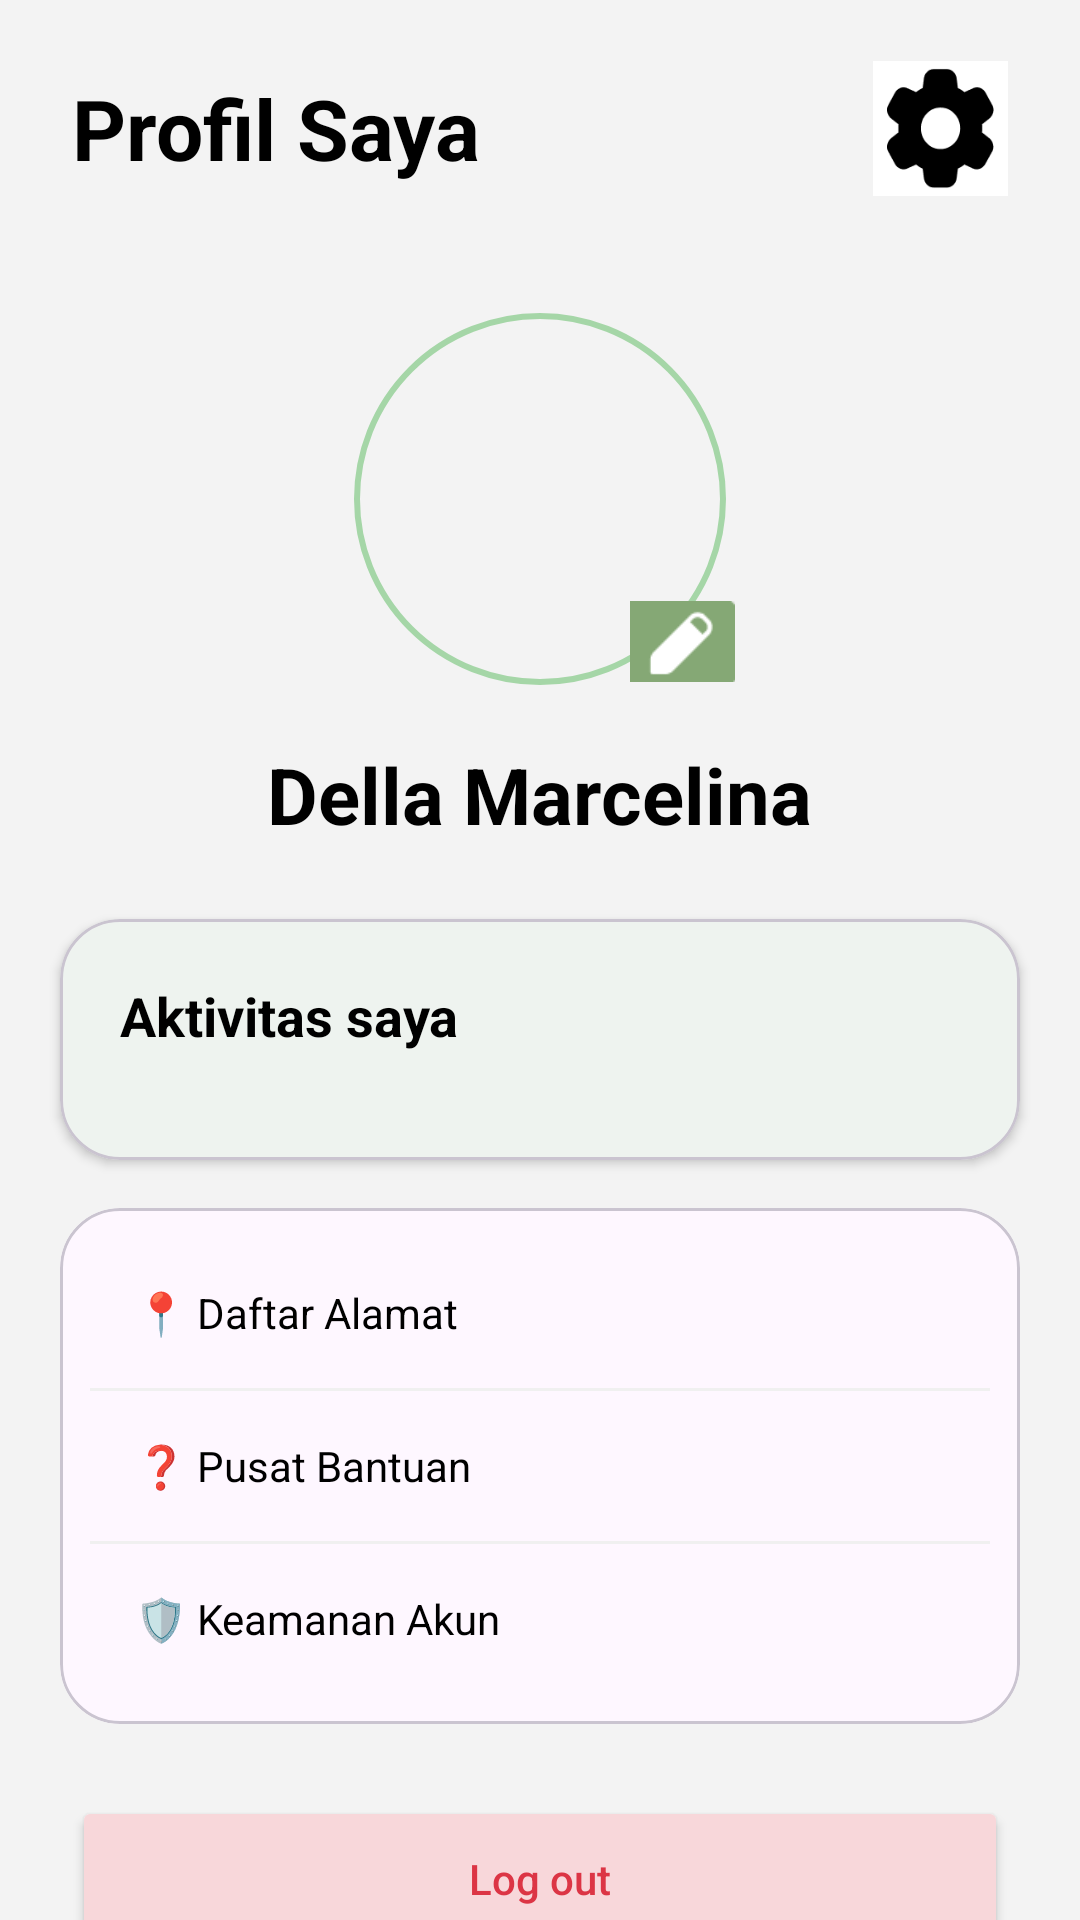

Point at icon controls on the screen. Image size 1080w x 1920h, points as (x,y).
pengaturan: (940,128)
tulis: (682,635)
